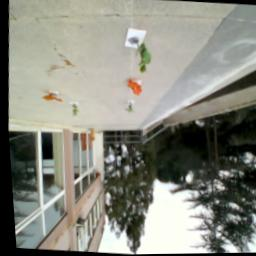herb: (132, 40, 156, 77), (69, 103, 80, 119), (124, 103, 134, 116)
wild: (126, 78, 144, 98), (41, 92, 63, 105)
